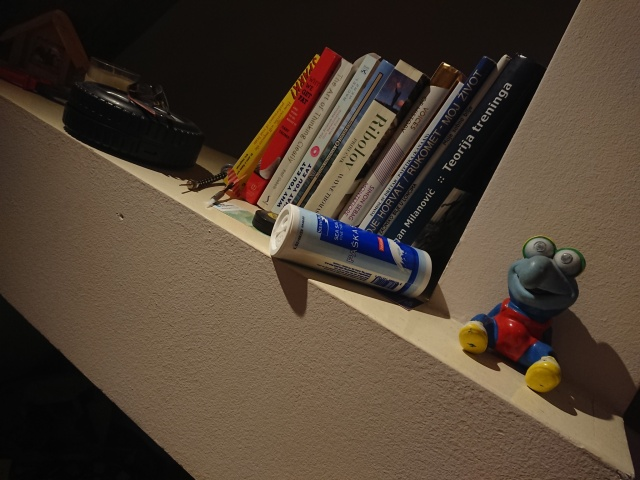Solana Pag Fine Sea Salt 250g: (266, 201, 434, 302)
